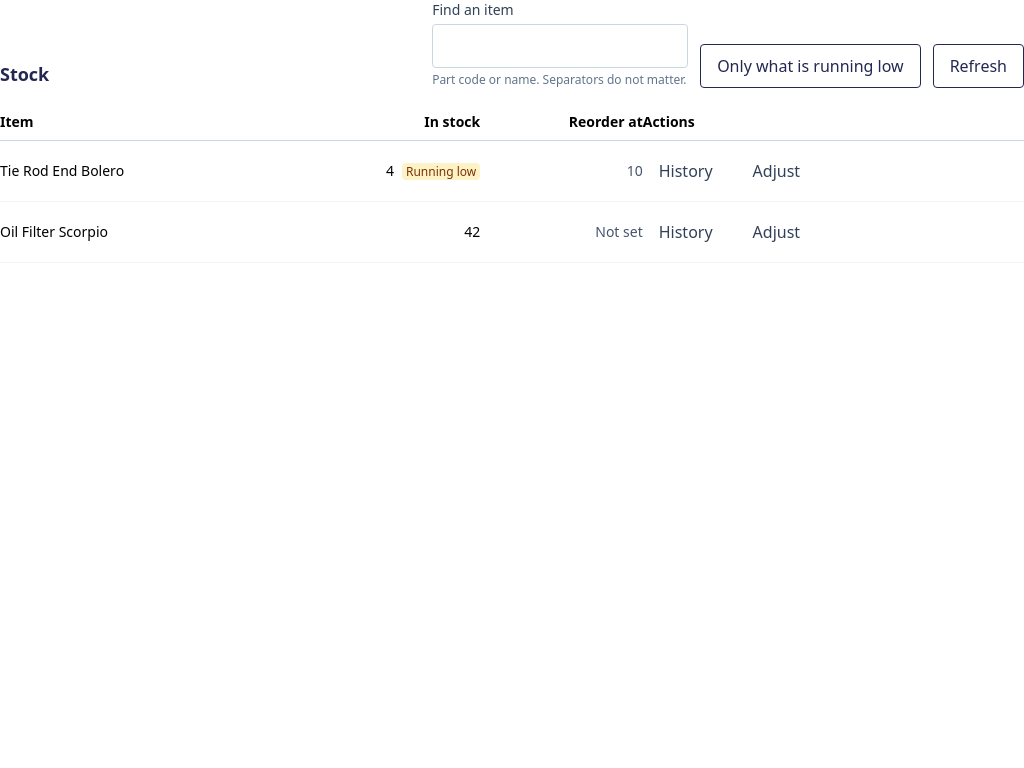
Test case: FR-INV-002 — the ledger is the only writer › asks for a difference, not a new total
This screenshot has width=1024, height=768.
Expected: the text "Tie Rod End Bolero" is shown, [0,141,273,202]
Click the button "Adjust" in the row of "Tie Rod End Bolero".
click(776, 171)  # box [737,149,816,193]
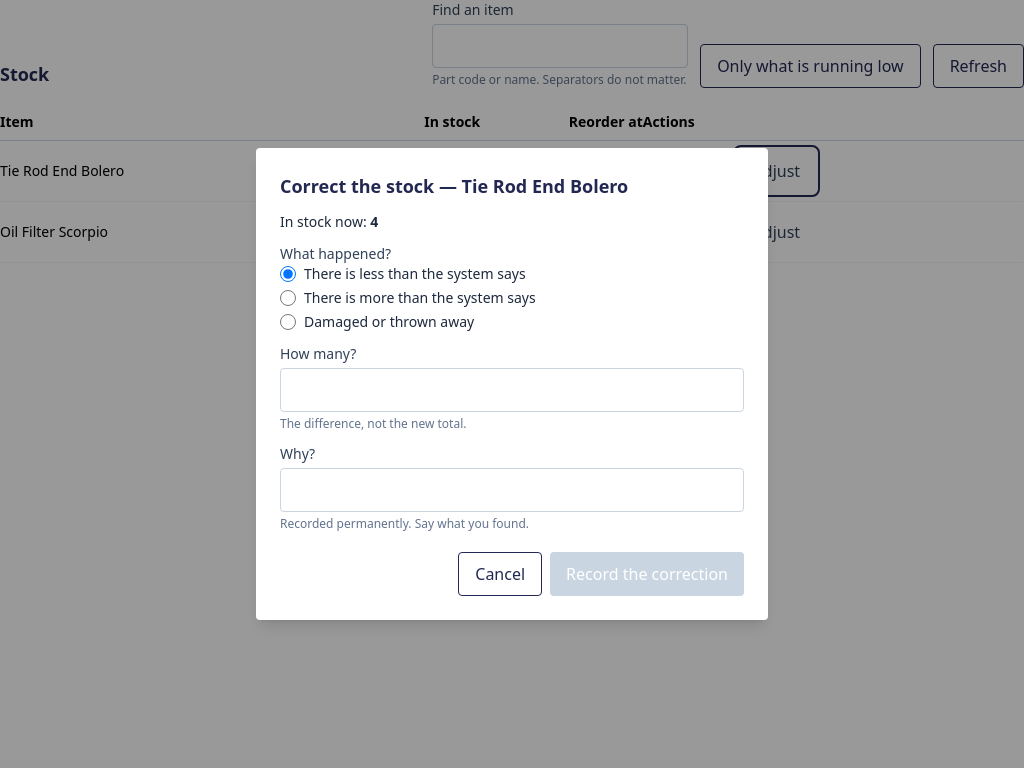
Now the text "The difference, not the new total." is shown, box [280,415,466,432]
